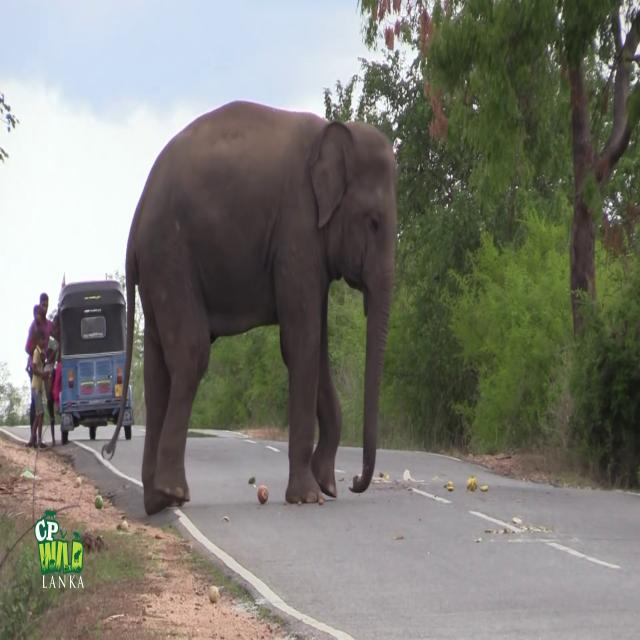Elephant: (101, 98, 398, 516)
person: (25, 286, 57, 434), (28, 330, 48, 449)
